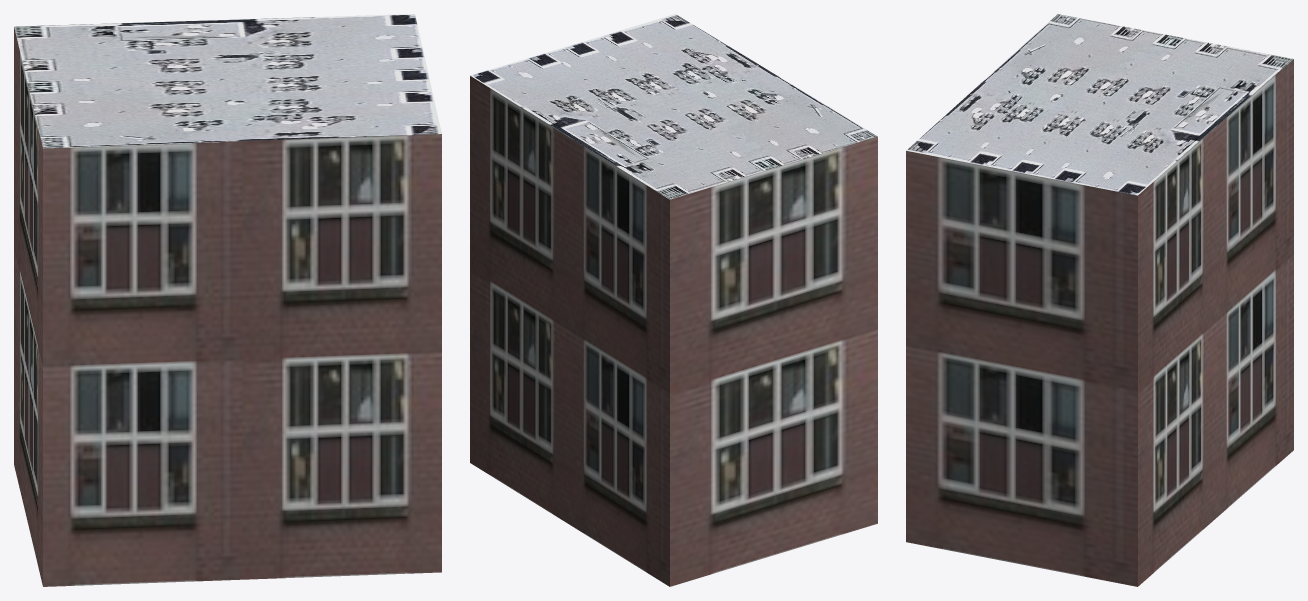
Rendered from ResTex__2087.fbx.
3 renders of one model, left to right at view 1: azimuth 30°, elevation 25°; view 2: azimuth 150°, elevation 25°; view 3: azimuth 270°, elevation 25°, orthographic. The views are drawn at different scales.
Parts seen in each view (by area): view 1: CityEngineMaterial_12_m, CityEngineMaterial_8_m; view 2: CityEngineMaterial_12_m, CityEngineMaterial_8_m; view 3: CityEngineMaterial_12_m, CityEngineMaterial_8_m.
Boxes of the visible parts, x1,y1,x2,y2 form: CityEngineMaterial_12_m: (14, 27, 441, 586); CityEngineMaterial_8_m: (14, 14, 441, 148); CityEngineMaterial_12_m: (470, 76, 877, 586); CityEngineMaterial_8_m: (470, 14, 877, 199); CityEngineMaterial_12_m: (906, 59, 1293, 586); CityEngineMaterial_8_m: (906, 14, 1293, 195).
Size of the model in its own units: 5.97 by 6 by 5.39.
Materials: 2 (2 with a texture image).
